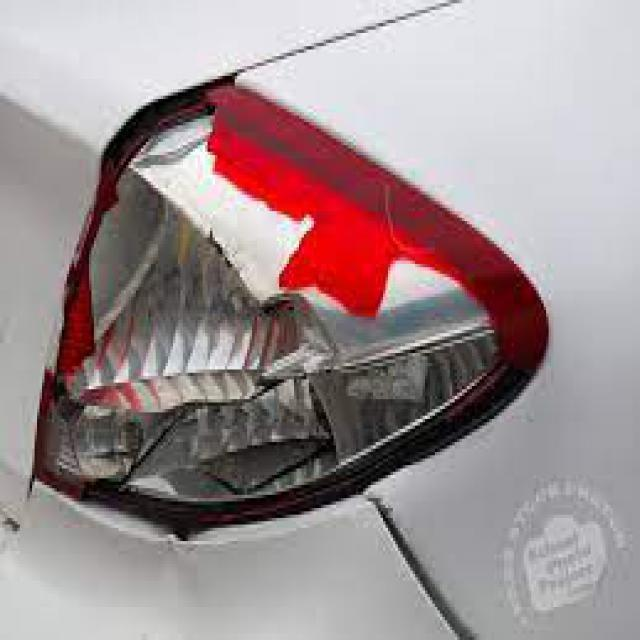Headlight-Damage: (11, 72, 543, 540)
